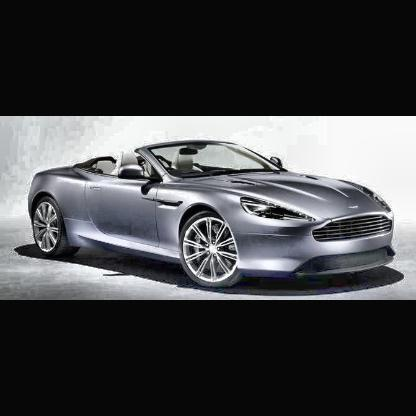Aston Martin V8 Vantage Convertible 2012: (29, 141, 400, 291)
